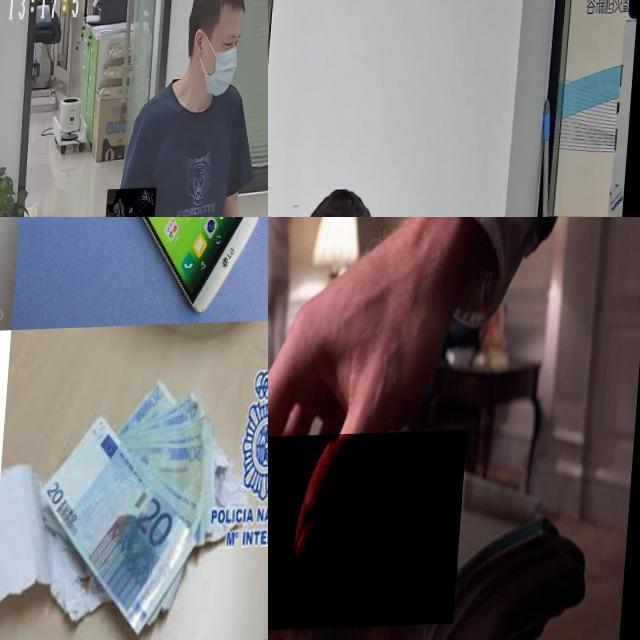gun-knife-thesis - v11 Yolov5 augmented: (268, 433, 473, 635), (105, 189, 159, 217)
